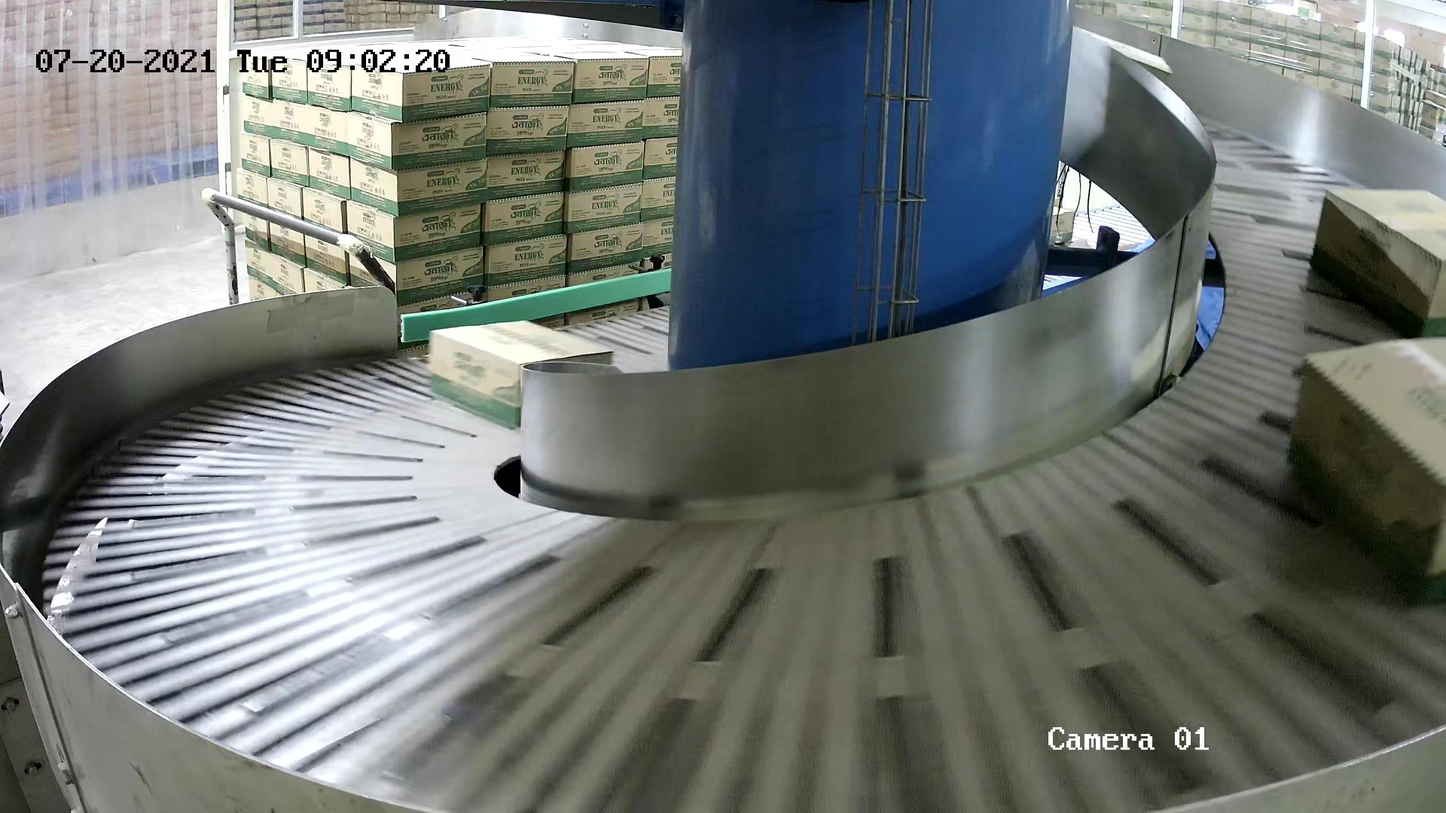Box: (1285, 332, 1446, 611), (427, 318, 615, 431), (1309, 186, 1446, 338)
